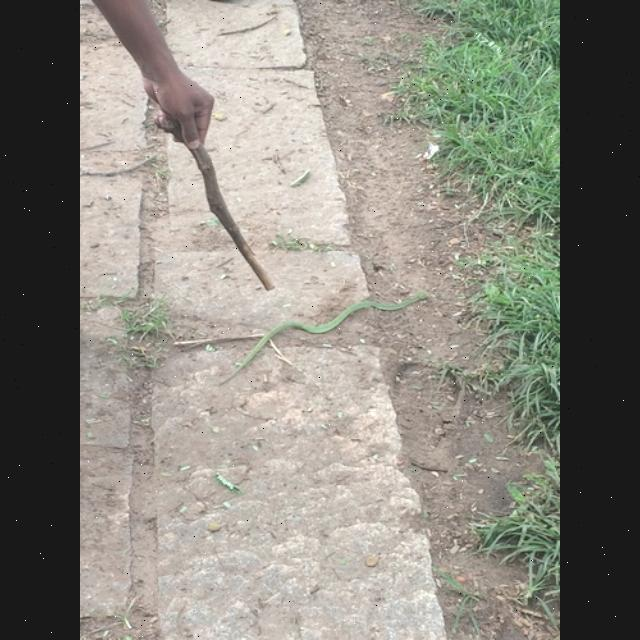snake: (207, 286, 441, 392)
